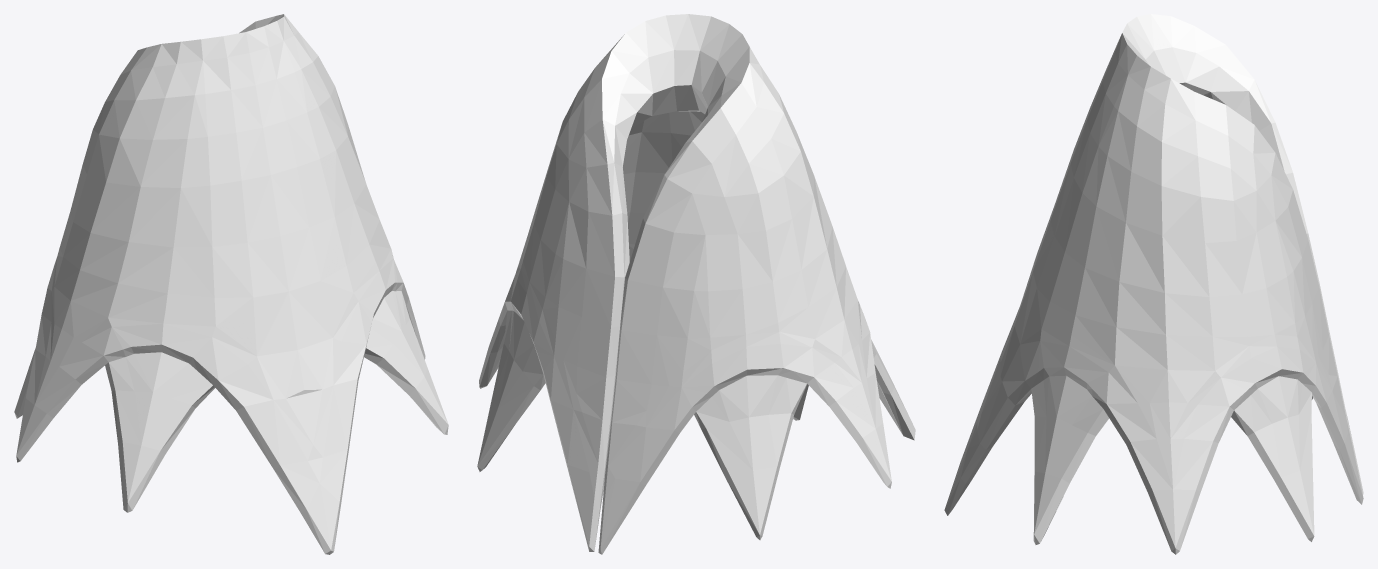
The model's file is CharSkyKid_Wing_ClassicRey.glb.
3 renders of one model, left to right at view 1: azimuth 30°, elevation 25°; view 2: azimuth 150°, elevation 25°; view 3: azimuth 270°, elevation 25°, orthographic. The views are drawn at different scales.
Parts seen in each view (by area): view 1: CharSkyKid_Wing_ClassicRey; view 2: CharSkyKid_Wing_ClassicRey; view 3: CharSkyKid_Wing_ClassicRey.
Boxes of the visible parts, box(x1,y1,x2,y2) form: CharSkyKid_Wing_ClassicRey: box(14, 14, 448, 554); CharSkyKid_Wing_ClassicRey: box(477, 14, 915, 554); CharSkyKid_Wing_ClassicRey: box(944, 14, 1363, 554).
Size of the model in its own units: 6.99 by 7.53 by 5.92.
Materials: 1 (1 with a texture image).
